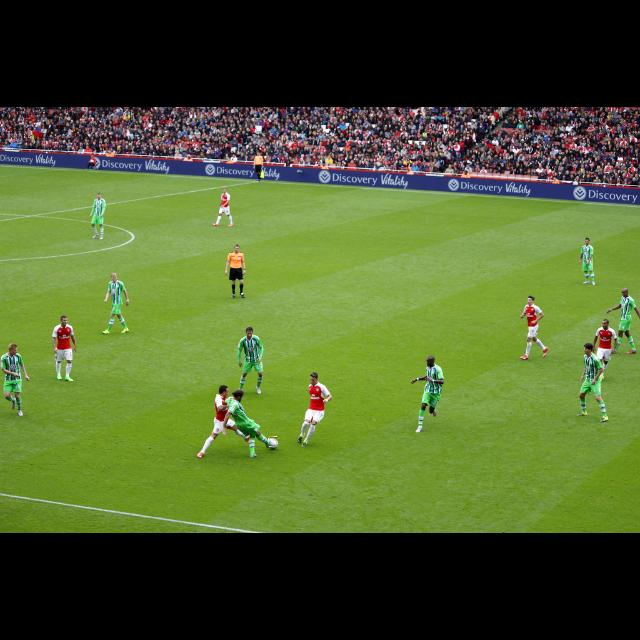Football: (269, 437, 277, 447)
